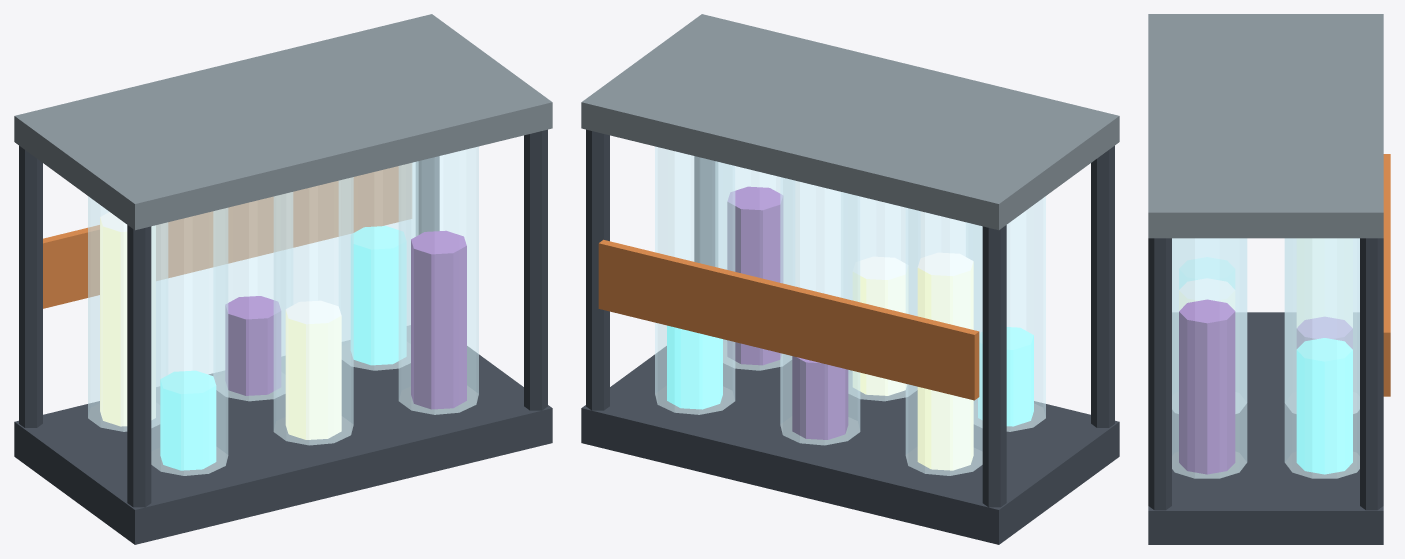
The model's file is sub_sample_rack.glb.
3 renders of one model, left to right at view 1: azimuth 30°, elevation 25°; view 2: azimuth 150°, elevation 25°; view 3: azimuth 270°, elevation 25°, orthographic. The views are drawn at different scales.
Visible parts, largest first — view 1: sub_sample_rack_glass, sub_sample_rack_dark, sub_sample_rack_hull, sub_sample_rack_accent, sub_sample_rack_shell, sub_sample_rack_warm, sub_sample_rack_glow; view 2: sub_sample_rack_dark, sub_sample_rack_glass, sub_sample_rack_hull, sub_sample_rack_accent, sub_sample_rack_warm, sub_sample_rack_shell, sub_sample_rack_glow; view 3: sub_sample_rack_hull, sub_sample_rack_dark, sub_sample_rack_glass, sub_sample_rack_shell, sub_sample_rack_glow, sub_sample_rack_warm, sub_sample_rack_accent.
Part boxes in pixels (x1=…): sub_sample_rack_glass: x1=88, y1=146, x2=478, y2=475; sub_sample_rack_dark: x1=14, y1=129, x2=552, y2=544; sub_sample_rack_hull: x1=14, y1=14, x2=552, y2=230; sub_sample_rack_accent: x1=43, y1=163, x2=411, y2=308; sub_sample_rack_shell: x1=225, y1=231, x2=466, y2=409; sub_sample_rack_warm: x1=100, y1=212, x2=341, y2=439; sub_sample_rack_glow: x1=160, y1=226, x2=406, y2=470; sub_sample_rack_dark: x1=581, y1=129, x2=1119, y2=544; sub_sample_rack_glass: x1=655, y1=146, x2=1045, y2=475; sub_sample_rack_hull: x1=581, y1=14, x2=1119, y2=230; sub_sample_rack_accent: x1=598, y1=239, x2=979, y2=400; sub_sample_rack_warm: x1=853, y1=252, x2=973, y2=470; sub_sample_rack_shell: x1=727, y1=186, x2=848, y2=439; sub_sample_rack_glow: x1=667, y1=325, x2=1033, y2=426; sub_sample_rack_hull: x1=1148, y1=14, x2=1383, y2=238; sub_sample_rack_dark: x1=1148, y1=238, x2=1383, y2=544; sub_sample_rack_glass: x1=1172, y1=238, x2=1359, y2=478; sub_sample_rack_shell: x1=1179, y1=299, x2=1352, y2=474; sub_sample_rack_glow: x1=1179, y1=257, x2=1352, y2=474; sub_sample_rack_warm: x1=1179, y1=239, x2=1352, y2=327; sub_sample_rack_accent: x1=1383, y1=154, x2=1390, y2=396.
Bounding box in the file's own units: 2 × 1.56 × 1.03.
